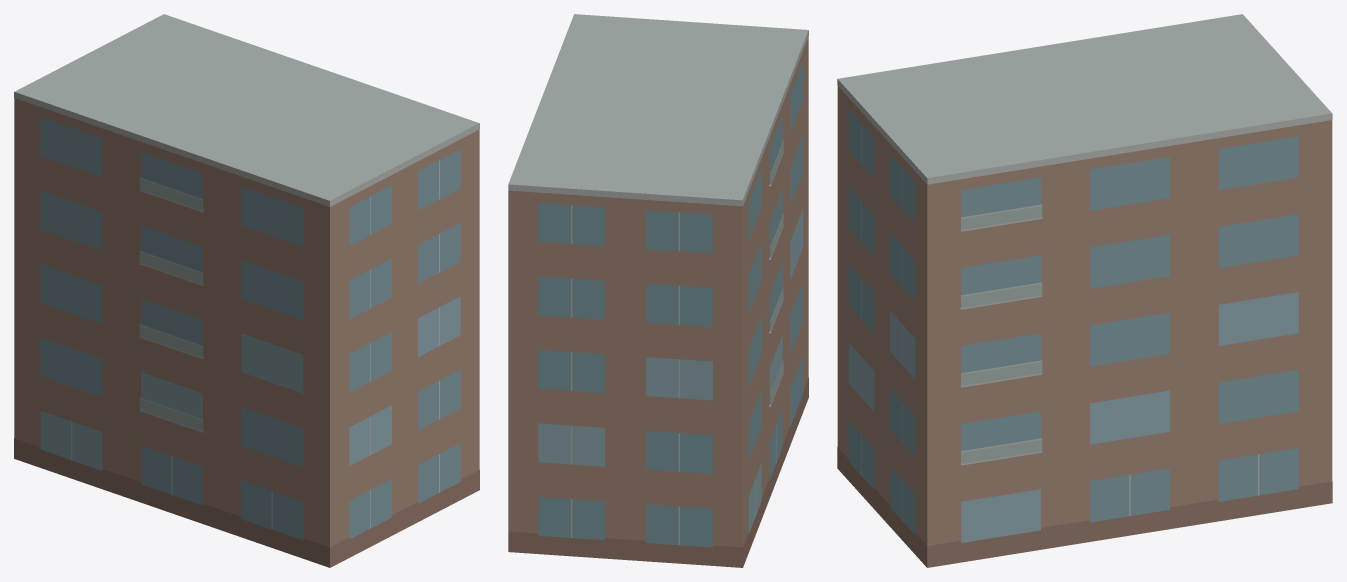
The model's file is survey-upis-32939044.glb.
The picture shows the model from 3 angles, left to right: view 1: azimuth 30°, elevation 25°; view 2: azimuth 150°, elevation 25°; view 3: azimuth 270°, elevation 25°; orthographic projection. The views are drawn at different scales.
Visible parts, largest first — view 1: survey-upis-32939044.tmp; view 2: survey-upis-32939044.tmp; view 3: survey-upis-32939044.tmp.
Boxes of the visible parts, x1,y1,x2,y2 form: survey-upis-32939044.tmp: [14, 14, 479, 567]; survey-upis-32939044.tmp: [508, 14, 808, 567]; survey-upis-32939044.tmp: [837, 14, 1332, 567].
Bounding box in the file's own units: 13.34 × 14.75 × 16.99.
